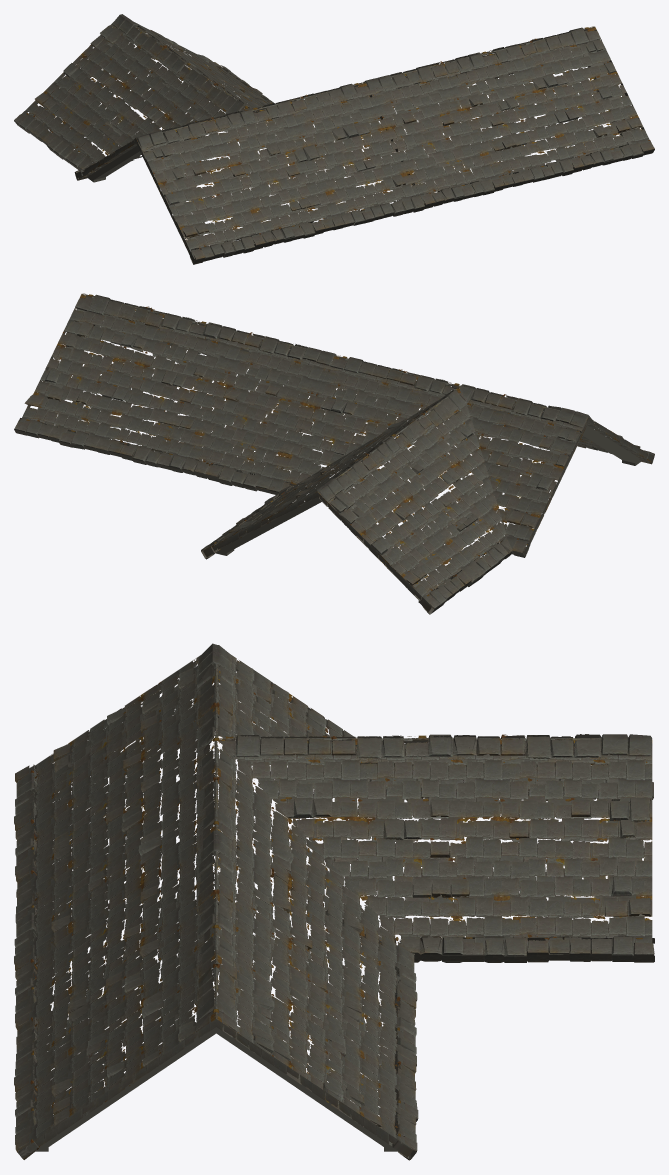
3 renders of one model, top to bottom at view 1: azimuth 30°, elevation 25°; view 2: azimuth 150°, elevation 25°; view 3: azimuth 270°, elevation 25°, orthographic. The views are drawn at different scales.
Visible parts, largest first — view 1: SM_DR_Dairy_Roof_01_-_Copy_LOD0; view 2: SM_DR_Dairy_Roof_01_-_Copy_LOD0; view 3: SM_DR_Dairy_Roof_01_-_Copy_LOD0.
Boxes of the visible parts, bbox=[...] form: SM_DR_Dairy_Roof_01_-_Copy_LOD0: bbox=[14, 14, 654, 264]; SM_DR_Dairy_Roof_01_-_Copy_LOD0: bbox=[14, 293, 654, 614]; SM_DR_Dairy_Roof_01_-_Copy_LOD0: bbox=[14, 643, 654, 1160].
Size of the model in its own units: 40.3 by 7.5 by 28.97.
1 material, 1 textured.
